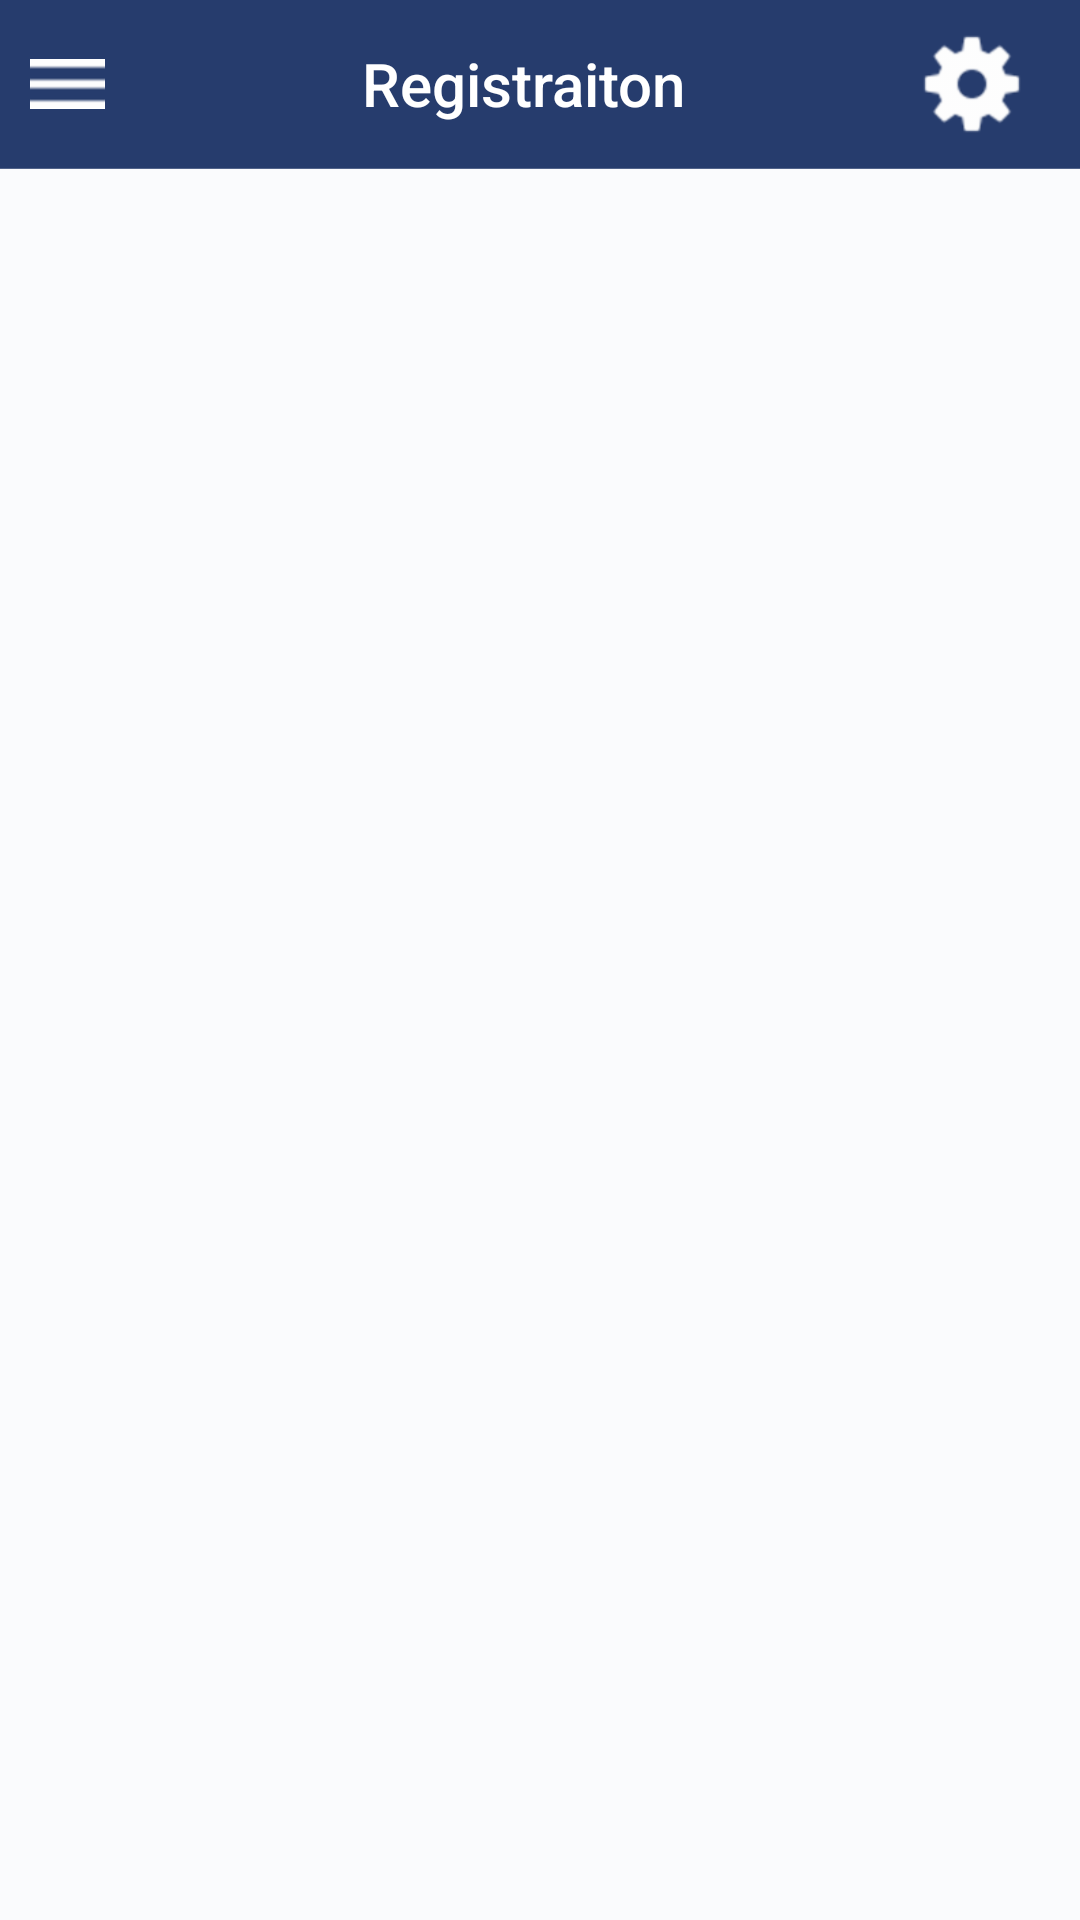

Icon click points for this 1080px x 1920px phone screenshot, format point (x, y):
menu: point (67, 84)
settings: point (972, 84)
